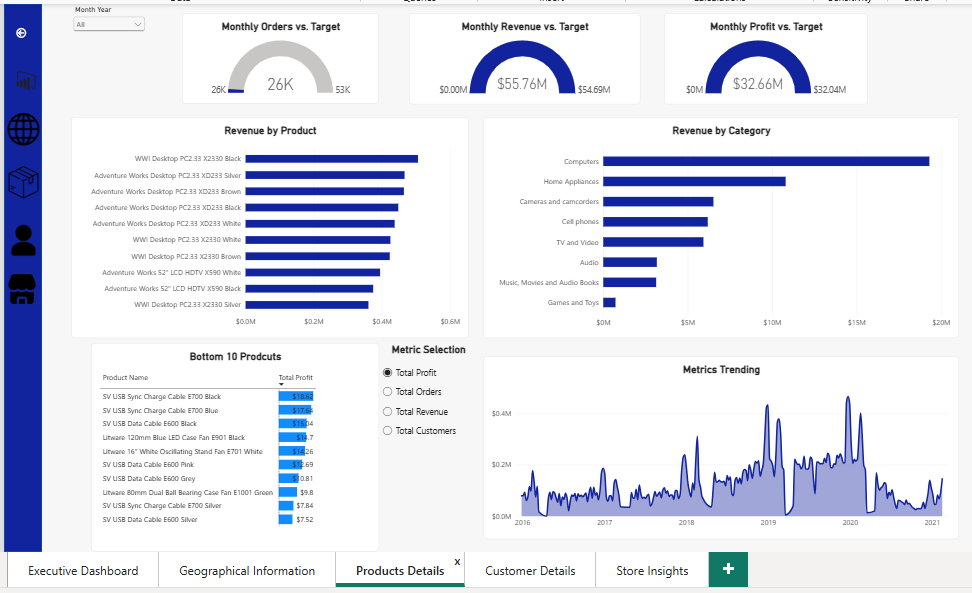

What the dashboard file says about the page in this screenshot:
{"tool":"powerbi","page":{"name":"Products Details","canvas":[1920,1080],"ordinal":2},"visuals":[{"type":"shape","box":[0,0,74.9,1080],"z":0,"group":"g1"},{"type":"barChart","title":"Revenue by Category","fields":{"Category":["Products.Category","Products.Subcategory"],"Y":["  Measures Table.Total Revenue"]},"box":[944,222.7,938,436],"z":0},{"type":"actionButton","box":[0,0,69,114.3],"z":1000,"group":"g3"},{"type":"image","box":[-0.1,119.4,86.7,61.1],"z":1000,"group":"g2"},{"type":"barChart","title":"Revenue by Profit","fields":{"Category":["Products.Product Name"],"Y":["  Measures Table.Total Revenue"]},"box":[132,222.7,784.4,435.5],"z":1000},{"type":"image","box":[5.9,214.7,65,63.8],"z":2000,"group":"g2"},{"type":"slicer","fields":{"Values":["Metric Selection.Metric Selection"]},"box":[484,810,300,204],"z":2000},{"type":"image","box":[5.9,318.7,65,63.8],"z":3000,"group":"g2"},{"type":"areaChart","title":"Metrics Trending","fields":{"Category":["Sales.Order Date.Variation.Date Hierarchy.Year","Sales.Order Date.Variation.Date Hierarchy.Month"],"Y":["  Measures Table.Total Profit","  Measures Table.Total Orders","  Measures Table.Total Revenue","  Measures Table.Total Customers"]},"box":[944,693.7,938.1,360.7],"z":3000},{"type":"gauge","title":"Monthly Orders vs. Target","fields":{"MaxValue":["  Measures Table.Orders Target"],"Y":["  Measures Table.Total Orders"]},"box":[350.8,17.7,388.2,179.3],"z":4000},{"type":"image","box":[5.9,432.1,65,63.8],"z":4000,"group":"g2"},{"type":"gauge","title":"Monthly Revenue vs. Target","fields":{"MaxValue":["  Measures Table.Revenue Target"],"Y":["  Measures Table.Total Revenue"]},"box":[798,18,456,180],"z":5000},{"type":"gauge","title":"Monthly Profit vs. Target","fields":{"MaxValue":["  Measures Table.Profit Target"],"Y":["  Measures Table.Total Profit"]},"box":[1300,18,402,180],"z":6000},{"type":"group","id":"g1","title":"Group 7","box":[-0.1,0,86.7,1080],"z":6001},{"type":"group","id":"g2","title":"Group 4","box":[-0.1,119.4,86.7,376.5],"z":10003,"group":"g3"},{"type":"group","id":"g3","title":"Group 6","box":[-0.1,0,86.7,495.9],"z":10004,"group":"g1"}]}

Visuals, with their boxes on the page's 1920x1080 design canvas (x1, y1, x2, y2). These are canvas units, not pixel positions in the 972x593 screenshot, which may show the page scaled, cropped or inside an application window:
shape: bbox=[0, 0, 75, 1080]
"Revenue by Category" barChart: bbox=[944, 223, 1882, 659]
actionButton: bbox=[0, 0, 69, 114]
image: bbox=[0, 119, 87, 180]
"Revenue by Profit" barChart: bbox=[132, 223, 916, 658]
image: bbox=[6, 215, 71, 278]
slicer - Metric Selection.Metric Selection: bbox=[484, 810, 784, 1014]
image: bbox=[6, 319, 71, 382]
"Metrics Trending" areaChart: bbox=[944, 694, 1882, 1054]
"Monthly Orders vs. Target" gauge: bbox=[351, 18, 739, 197]
image: bbox=[6, 432, 71, 496]
"Monthly Revenue vs. Target" gauge: bbox=[798, 18, 1254, 198]
"Monthly Profit vs. Target" gauge: bbox=[1300, 18, 1702, 198]
"Group 7" group: bbox=[0, 0, 87, 1080]
"Group 4" group: bbox=[0, 119, 87, 496]
"Group 6" group: bbox=[0, 0, 87, 496]
